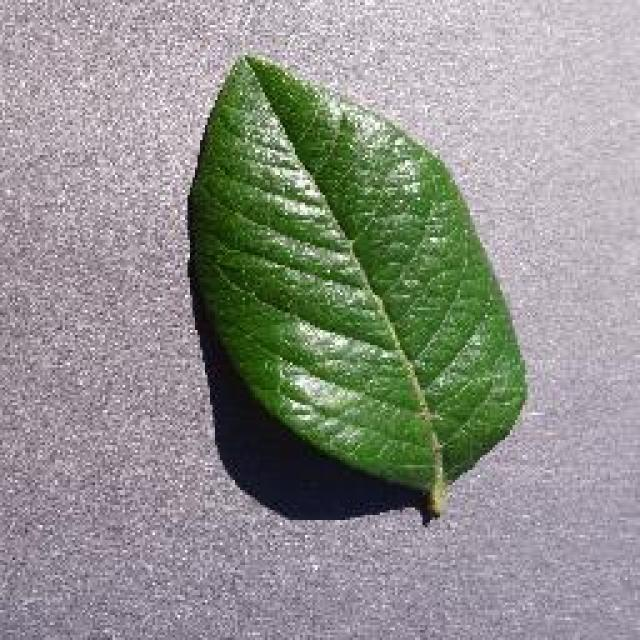Blu_healthy: (210, 104, 470, 455)
